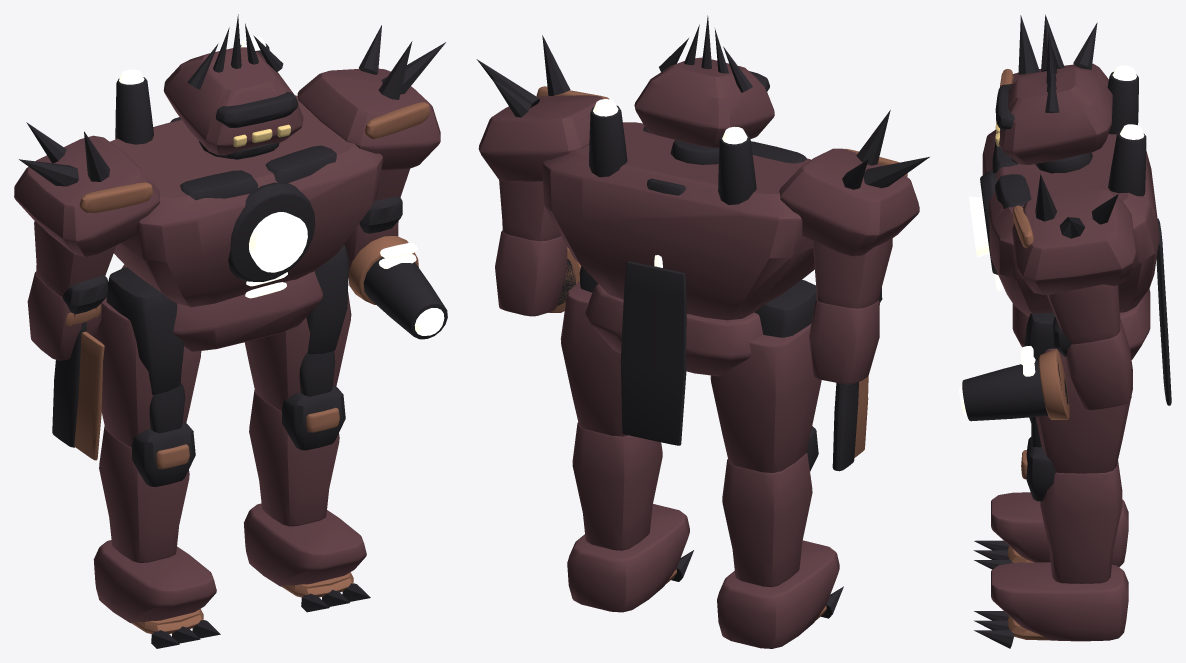
File: BossWarden_Hit.fbx
3 renders of one model, left to right at view 1: azimuth 30°, elevation 25°; view 2: azimuth 150°, elevation 25°; view 3: azimuth 270°, elevation 25°, orthographic. The views are drawn at different scales.
Parts seen in each view (by area): view 1: Torso, PauldronL, Head, PauldronR, KneeR, KneeL, BootR, BootL, Pelvis, ThighL, SkirtL, ThighR (+32 smaller); view 2: Torso, ThighL, Banner, PauldronL, KneeL, KneeR, Head, BootL, BootR, PauldronR, ThighR, Pelvis (+14 smaller); view 3: Torso, PauldronR, Head, BootR, KneeR, ThighR, ElbowR, CannonBarrel, BootL, ArmR, ExhaustR, Pelvis (+23 smaller).
Part boxes in pixels (left/top/right/bottom): Torso: left=110, top=95, right=382, bottom=307; PauldronL: left=14, top=135, right=159, bottom=256; Head: left=163, top=47, right=303, bottom=155; PauldronR: left=297, top=68, right=440, bottom=170; KneeR: left=249, top=390, right=339, bottom=526; KneeL: left=99, top=426, right=189, bottom=562; BootR: left=244, top=503, right=366, bottom=586; BootL: left=93, top=540, right=216, bottom=623; Pelvis: left=121, top=264, right=322, bottom=351; ThighL: left=94, top=297, right=201, bottom=446; SkirtL: left=106, top=267, right=183, bottom=394; ThighR: left=244, top=292, right=351, bottom=410; Torso: left=542, top=122, right=814, bottom=320; ThighL: left=710, top=323, right=821, bottom=472; Banner: left=620, top=261, right=686, bottom=445; PauldronL: left=779, top=148, right=919, bottom=256; KneeL: left=722, top=453, right=812, bottom=586; KneeR: left=572, top=422, right=662, bottom=550; Head: left=634, top=57, right=774, bottom=147; BootL: left=717, top=540, right=839, bottom=648; BootR: left=567, top=504, right=689, bottom=612; PauldronR: left=478, top=95, right=602, bottom=181; ThighR: left=560, top=281, right=627, bottom=436; Pelvis: left=585, top=284, right=762, bottom=376; Torso: left=982, top=129, right=1159, bottom=316; PauldronR: left=1012, top=188, right=1136, bottom=295; Head: left=999, top=67, right=1112, bottom=164; BootR: left=991, top=562, right=1128, bottom=641; KneeR: left=1040, top=461, right=1122, bottom=583; ThighR: left=1035, top=348, right=1132, bottom=473; ElbowR: left=1066, top=321, right=1131, bottom=410; CannonBarrel: left=962, top=359, right=1068, bottom=421; BootL: left=991, top=492, right=1128, bottom=567; ArmR: left=1047, top=284, right=1120, bottom=344; ExhaustR: left=1108, top=130, right=1146, bottom=196; Pelvis: left=1012, top=288, right=1150, bottom=359.
Size of the model in its own units: 3.65 by 4.71 by 1.58.
